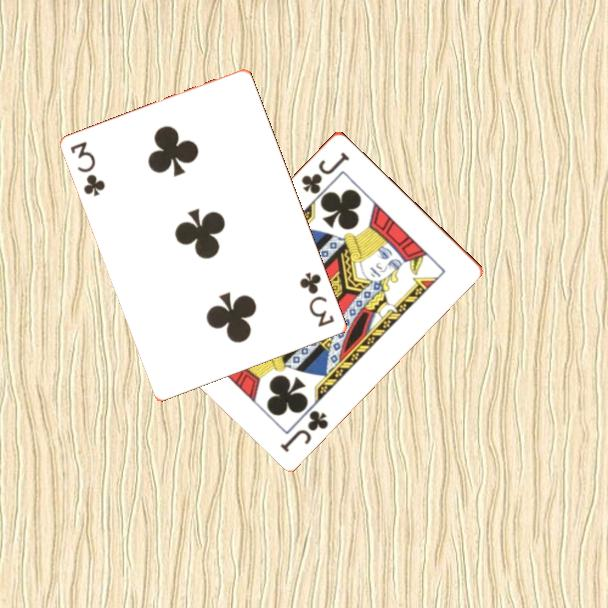c03: (296, 269, 338, 330), (67, 138, 109, 199)
c11: (276, 406, 331, 455), (297, 148, 353, 196)
